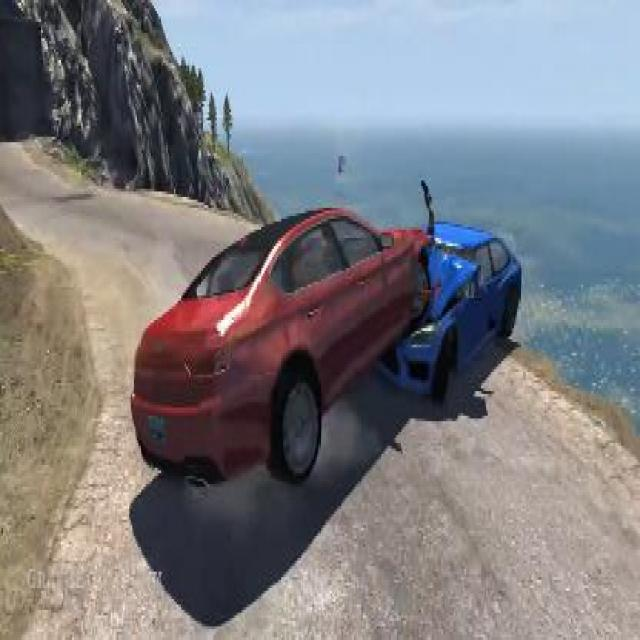accident: (124, 178, 522, 490)
